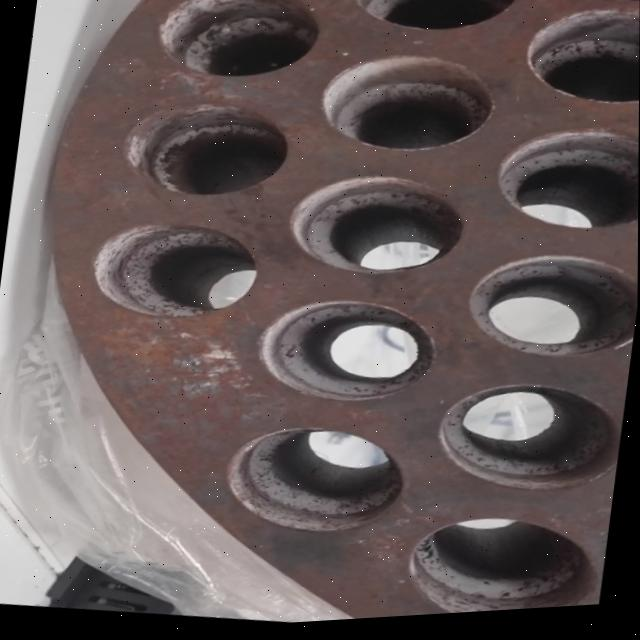Hole: (433, 375, 627, 509), (221, 416, 413, 550), (252, 289, 445, 419), (284, 166, 470, 291), (401, 508, 606, 621), (315, 45, 501, 169), (463, 247, 638, 377), (85, 212, 262, 334), (118, 91, 295, 211), (491, 120, 639, 247), (152, 0, 325, 92), (521, 3, 640, 119), (347, 0, 523, 49)
